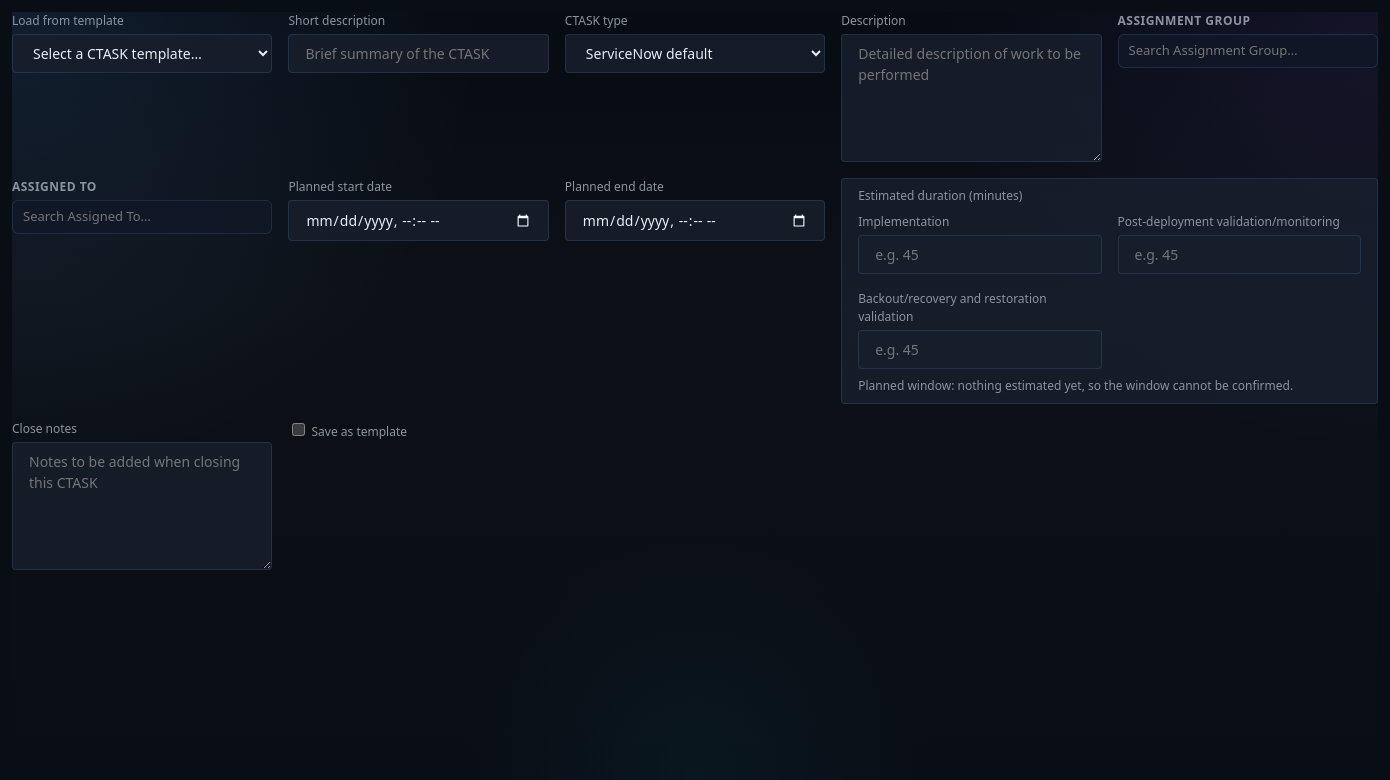
Test: CtaskEditForm › save as template › shows save as template section when checkbox is clicked
The width and height of the screenshot is (1390, 780).
Click the checkbox named "Save as template checkbox": [299, 430] box [292,423,305,436]
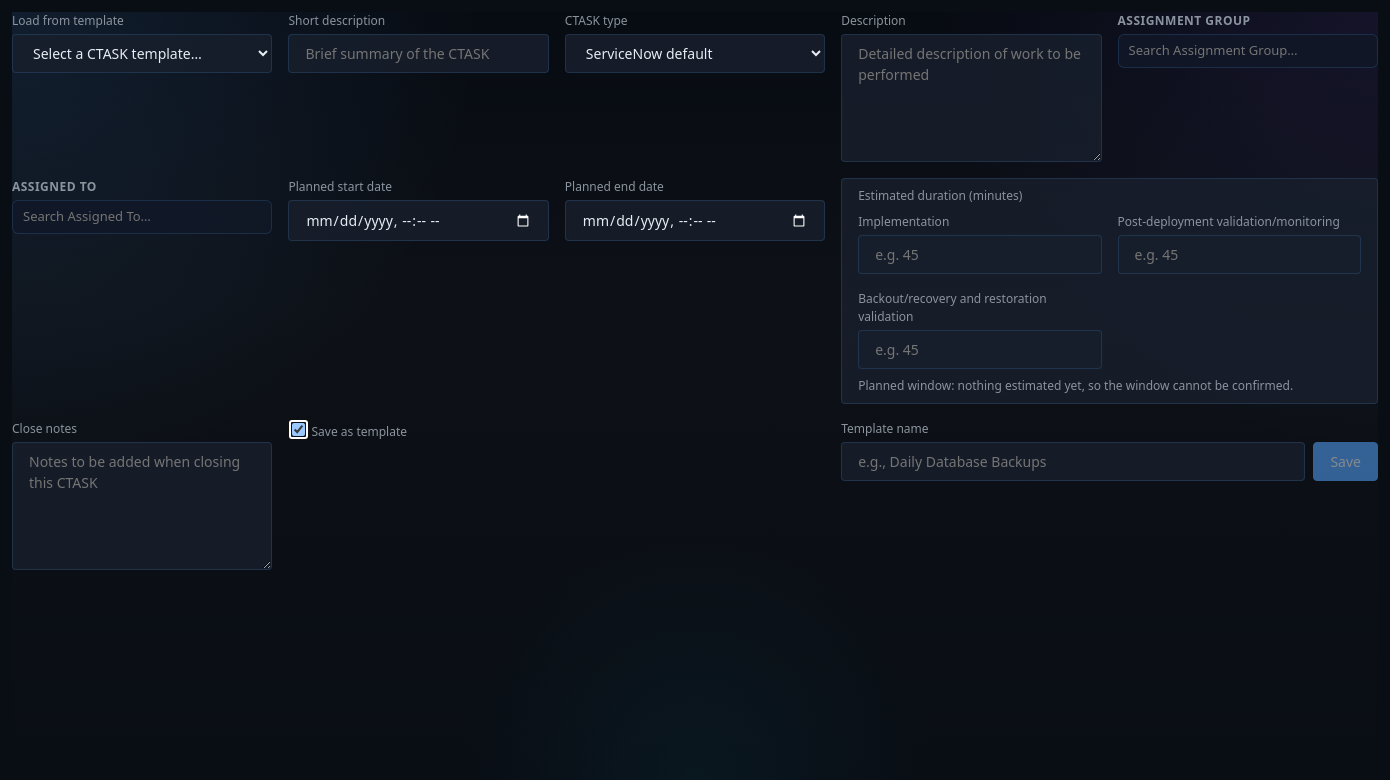
Result: the field labelled "Template name" is shown at [841,442,1305,481]
